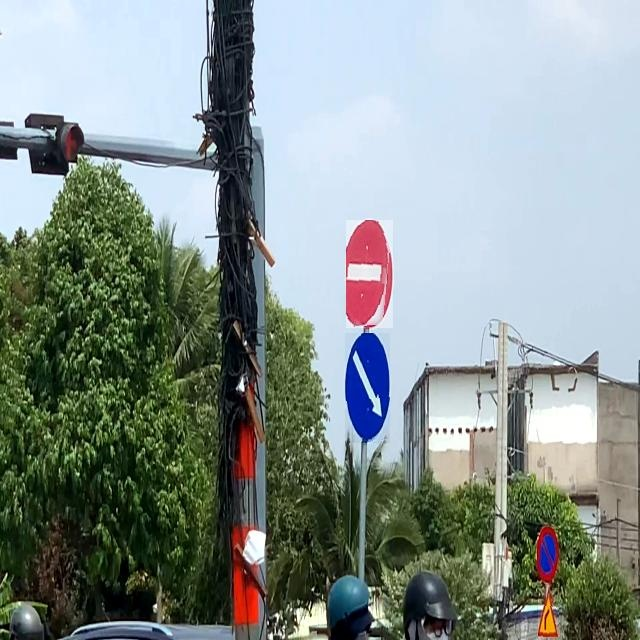bien_hieu_lenh: (346, 220, 393, 328), (345, 333, 390, 443), (537, 528, 559, 586), (538, 588, 560, 637)
